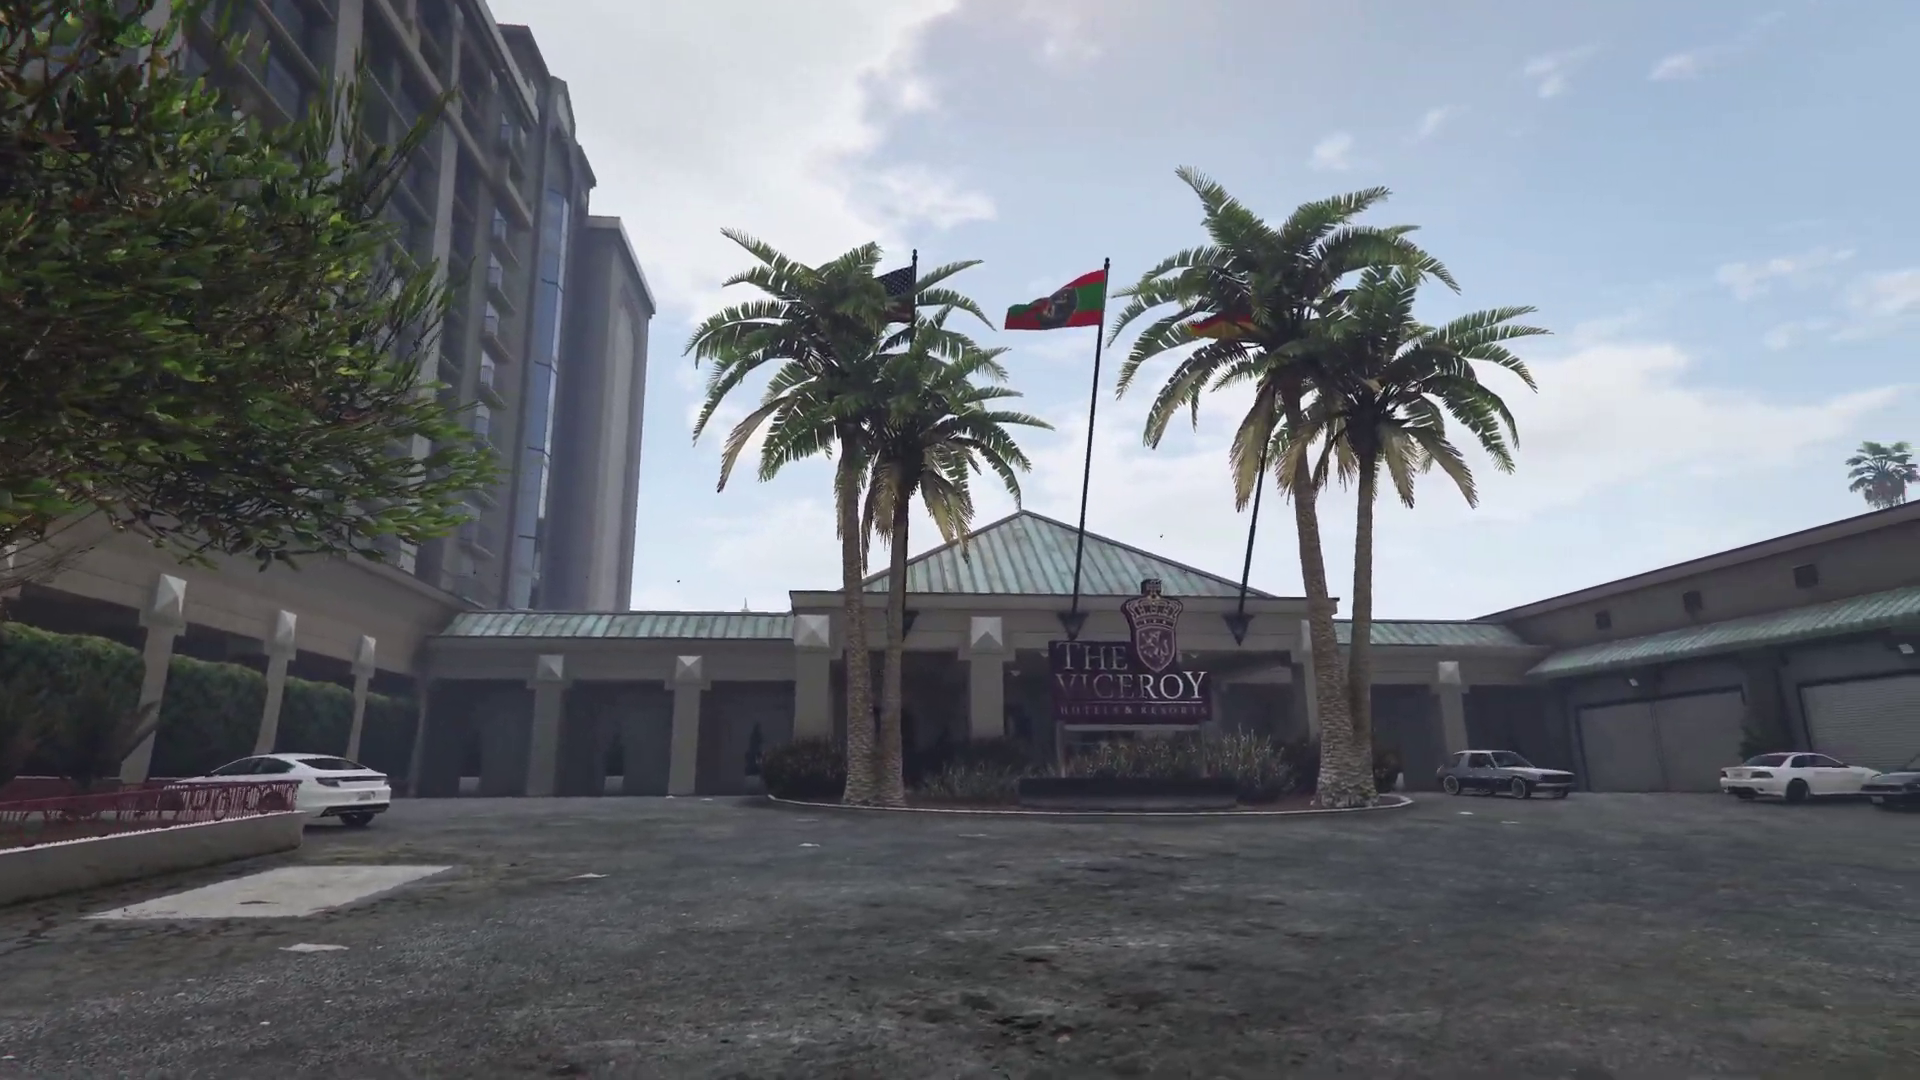car: (149, 752, 392, 829), (1722, 752, 1882, 803), (1437, 748, 1575, 802), (1862, 749, 1920, 811)
